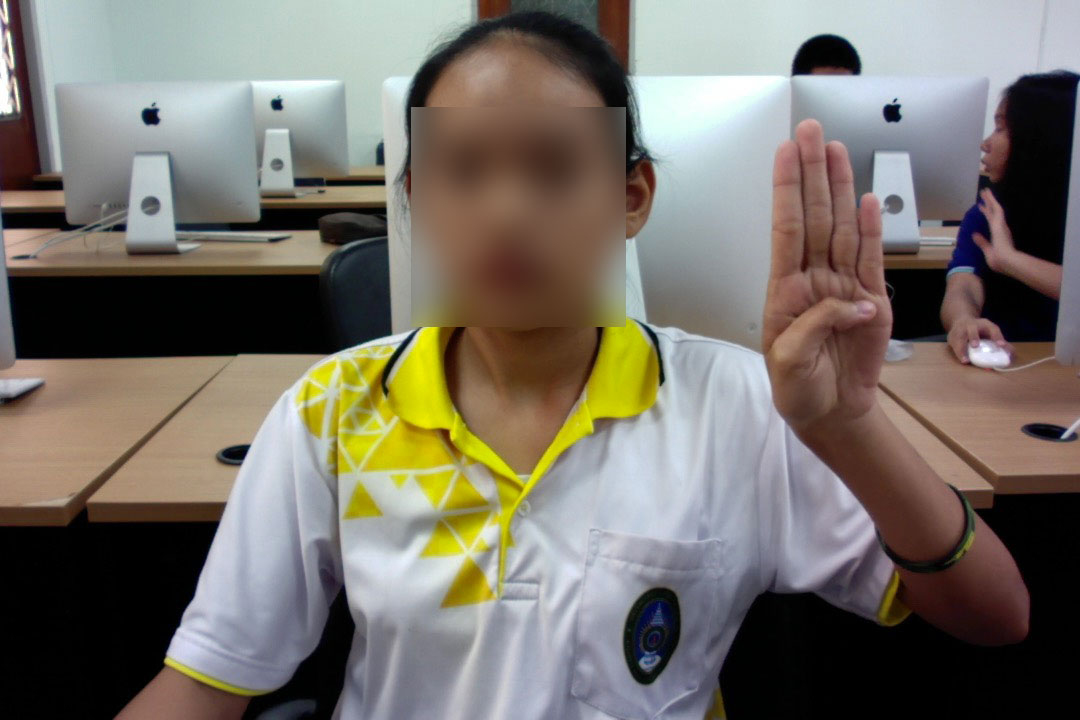bor: (735, 107, 920, 437)
